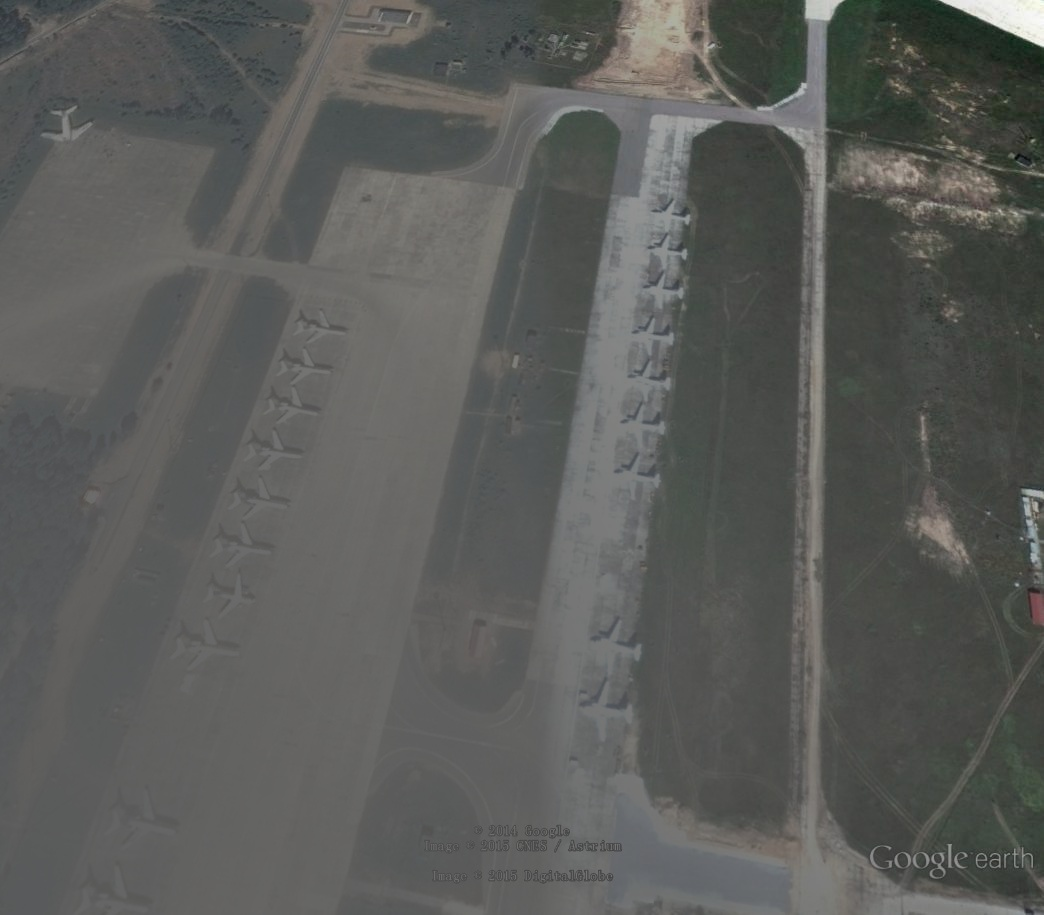aircraft: (104, 785, 178, 852), (71, 861, 156, 915), (577, 675, 635, 744), (169, 619, 240, 670), (587, 618, 642, 678), (229, 472, 292, 523), (208, 523, 277, 567), (243, 429, 308, 473), (203, 569, 258, 620), (612, 451, 663, 505), (274, 346, 338, 387), (620, 403, 668, 454), (265, 384, 322, 425), (622, 359, 673, 404), (39, 104, 94, 144), (626, 315, 677, 356), (642, 231, 694, 271), (639, 269, 687, 312), (294, 310, 349, 346), (648, 199, 695, 235)
